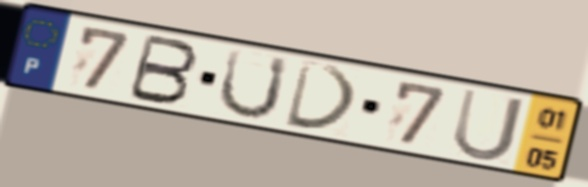7: (77, 24, 130, 91), (393, 79, 446, 146)
B: (123, 31, 202, 107)
D: (281, 57, 362, 134)
U: (449, 85, 529, 164), (214, 46, 292, 121)
